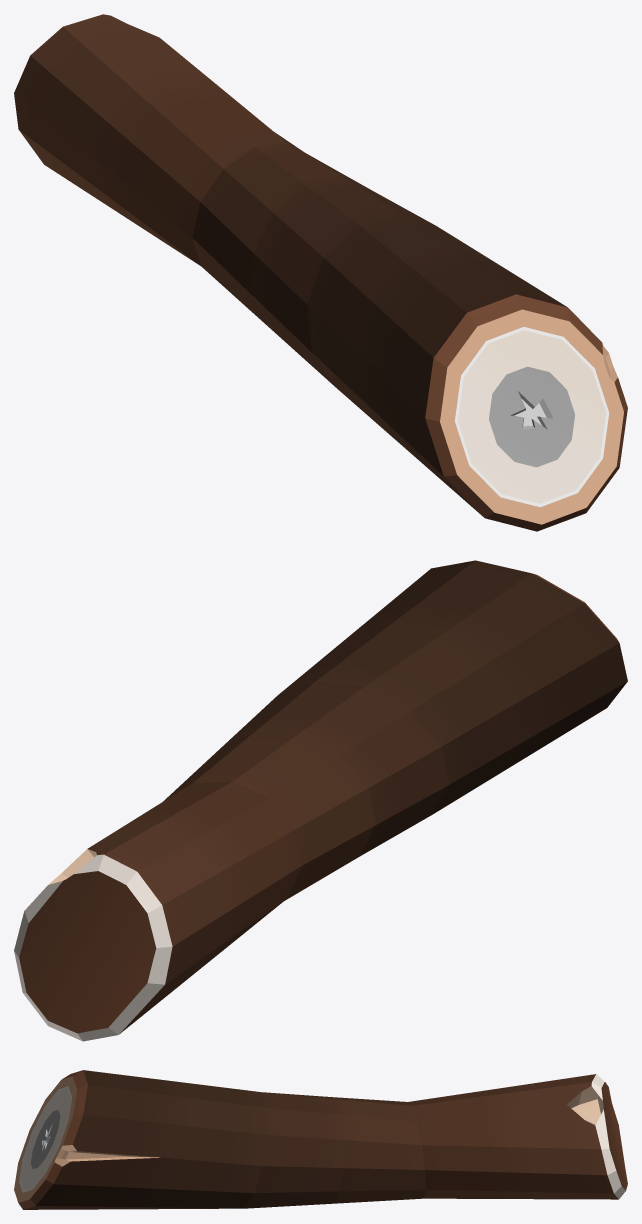
Rendered from odun_yeni.fbx.
3 renders of one model, top to bottom at view 1: azimuth 30°, elevation 25°; view 2: azimuth 150°, elevation 25°; view 3: azimuth 270°, elevation 25°, orthographic. The views are drawn at different scales.
Visible parts, largest first — view 1: odun.002, odun.001; view 2: odun.001, odun.002; view 3: odun.002, odun.001.
Part boxes in pixels (bbox=[...]): odun.002: bbox=[252, 177, 627, 531]; odun.001: bbox=[14, 14, 371, 326]; odun.001: bbox=[14, 732, 375, 1041]; odun.002: bbox=[220, 560, 627, 855]; odun.002: bbox=[14, 1070, 344, 1209]; odun.001: bbox=[331, 1074, 627, 1203].
Size of the model in its own units: 95.49 by 84.99 by 391.
